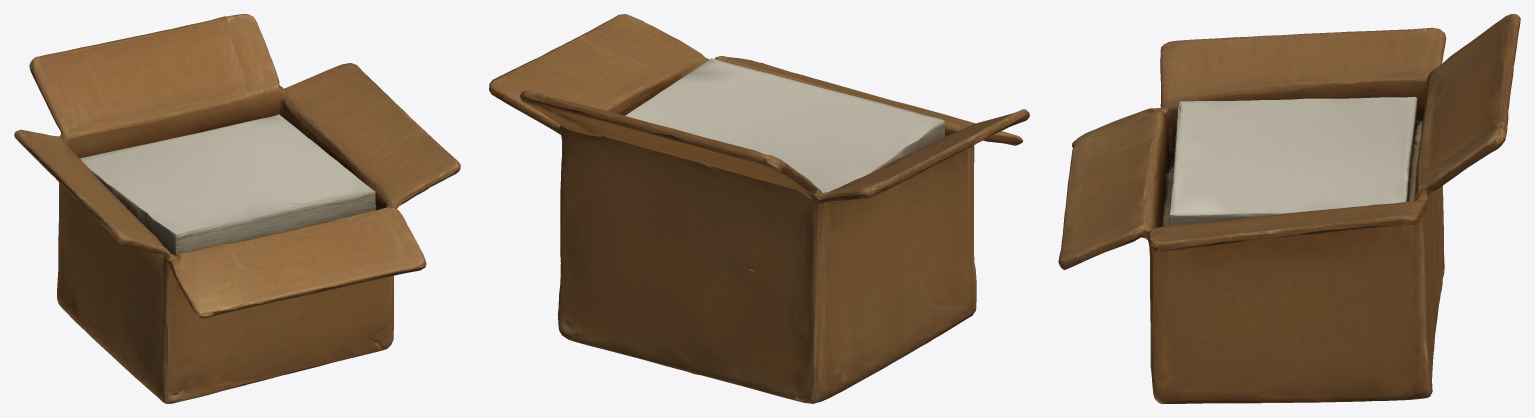
The model's file is crate.glb.
3 renders of one model, left to right at view 1: azimuth 30°, elevation 25°; view 2: azimuth 150°, elevation 25°; view 3: azimuth 270°, elevation 25°, orthographic. The views are drawn at different scales.
Parts seen in each view (by area): view 1: world; view 2: world; view 3: world.
Boxes of the visible parts, x1,y1,x2,y2 form: world: (14,14,460,403); world: (489,14,1029,403); world: (1058,14,1520,403).
Size of the model in its own units: 1 by 0.6672 by 1.
1 material, 1 textured.
